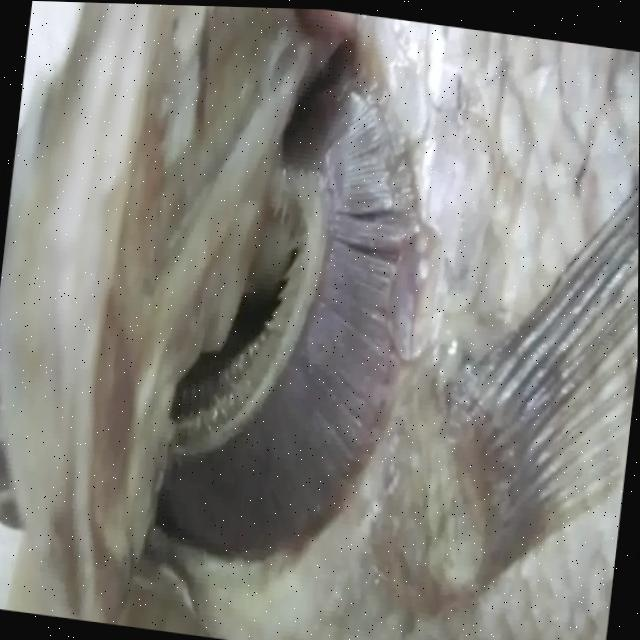Non-Fresh: (126, 30, 439, 595)
